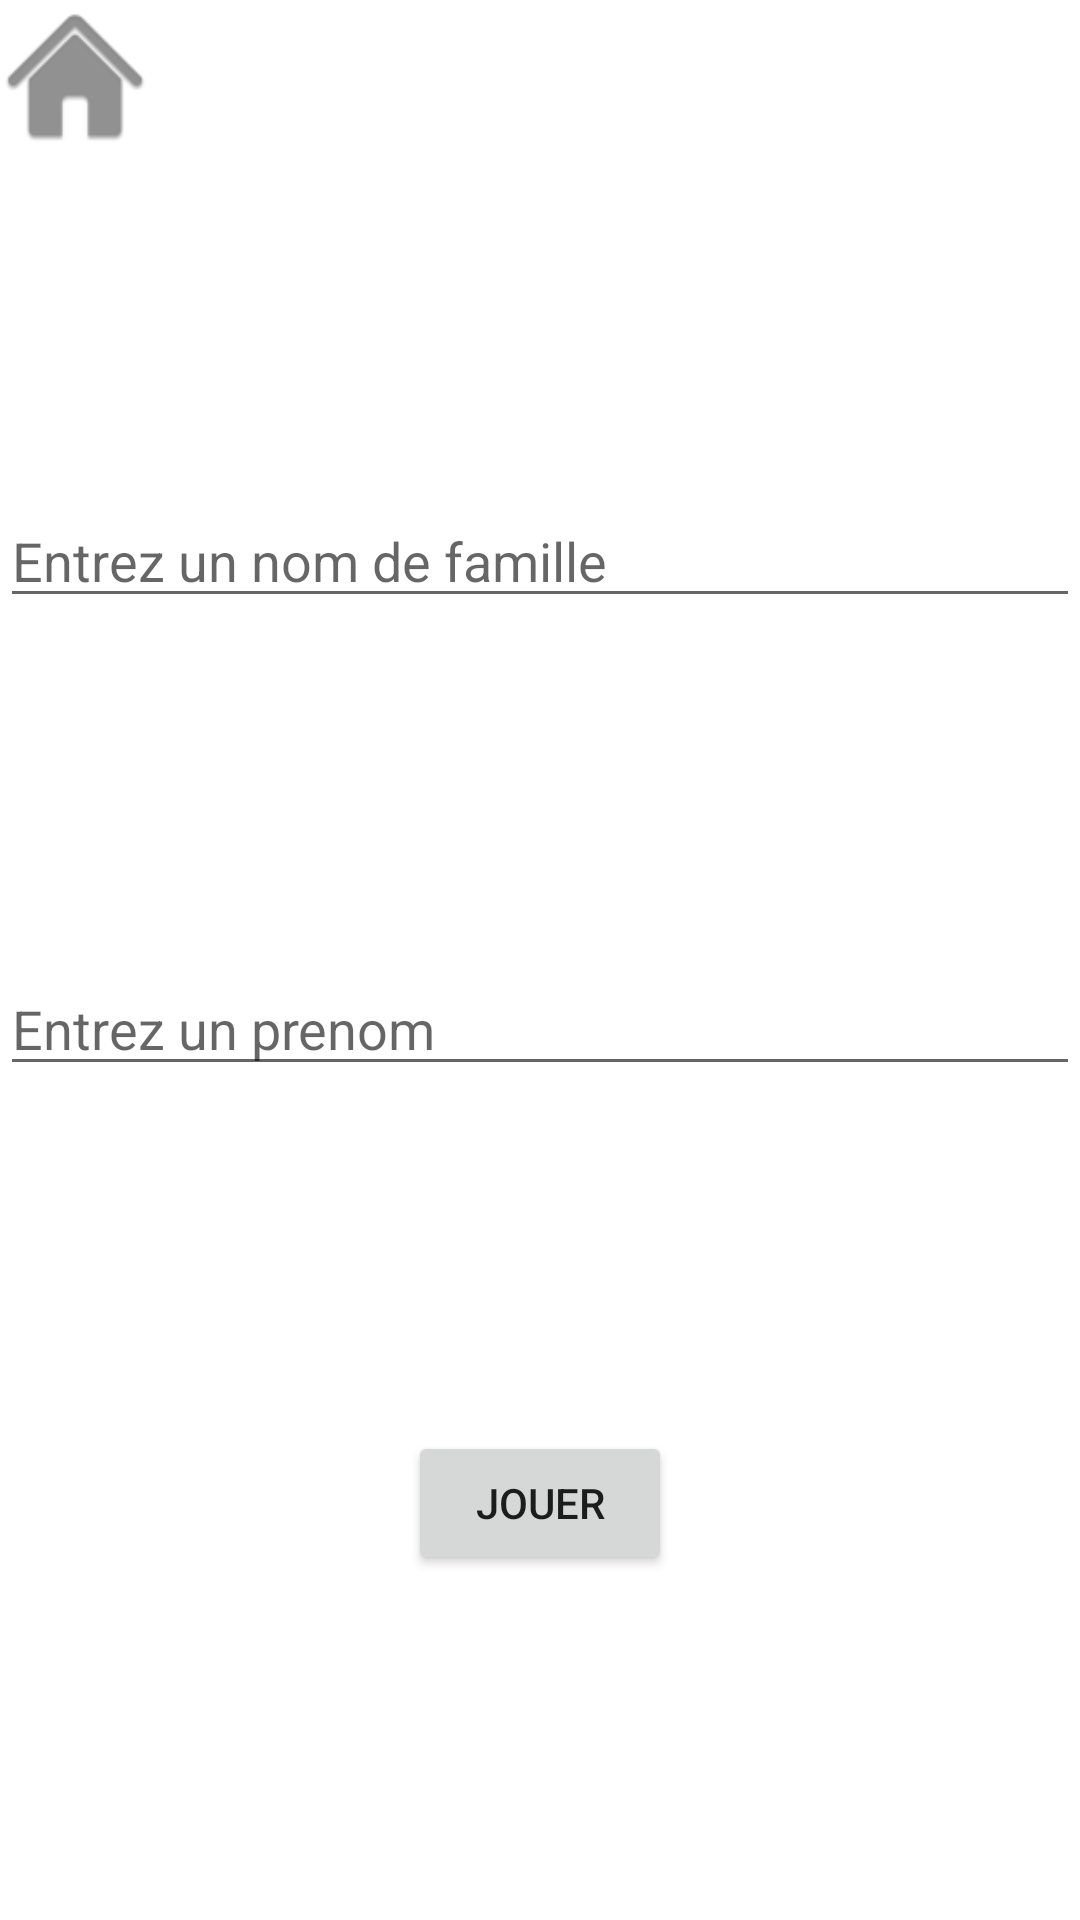

Named icons in this screenshot (1080 × 1920) and their centers, [x,y]:
home: [75,77]
